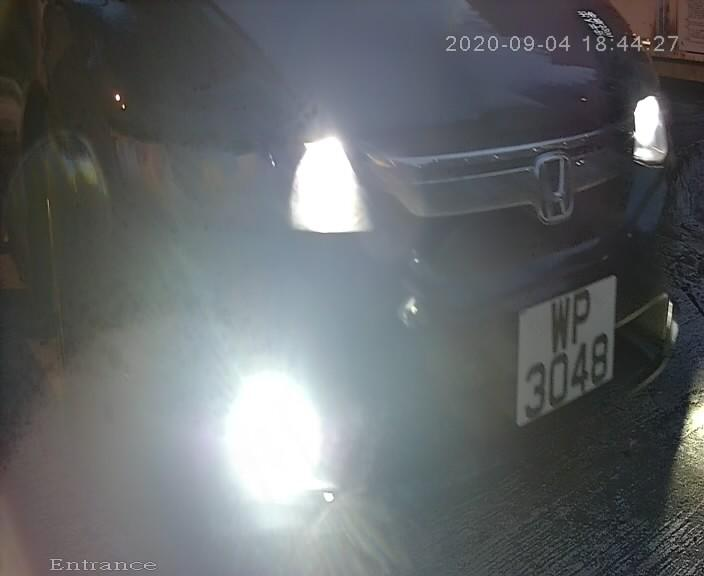License Plate: (502, 256, 622, 438)
